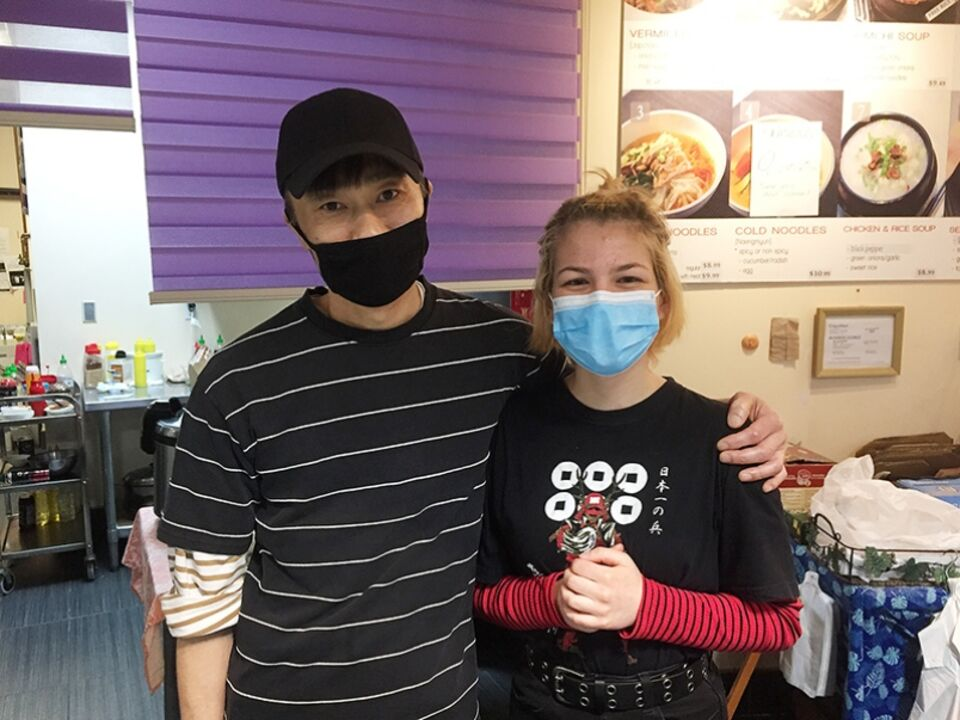with_mask: (281, 135, 436, 298), (545, 214, 683, 374)
